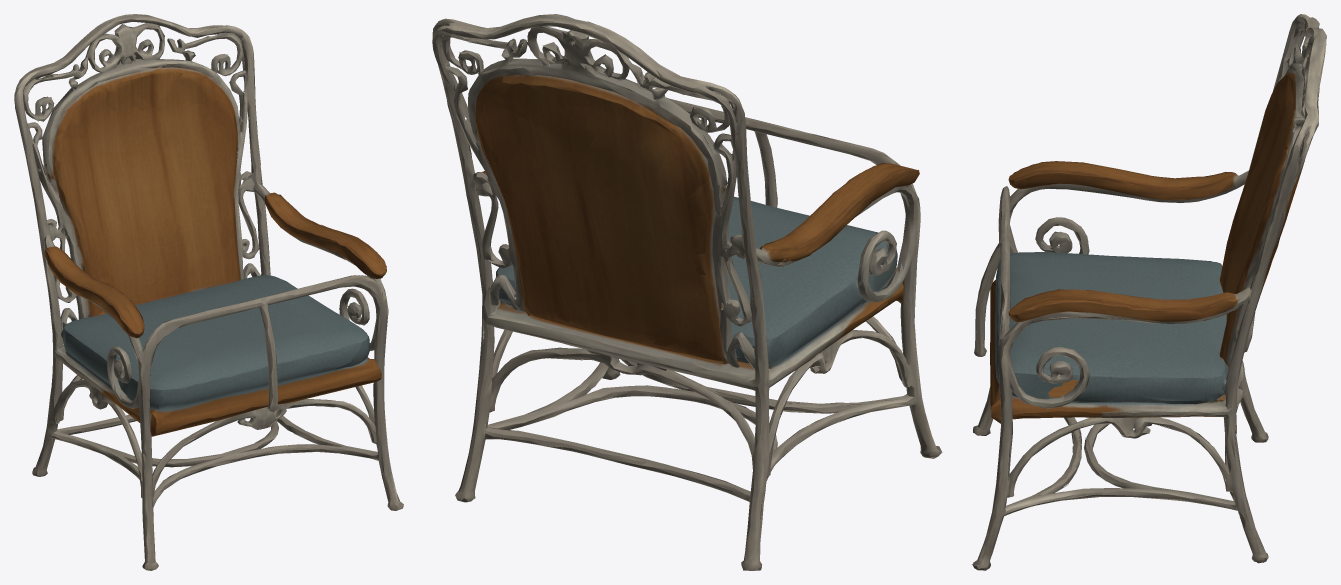
File: unified--swing-seat.glb
3 renders of one model, left to right at view 1: azimuth 30°, elevation 25°; view 2: azimuth 150°, elevation 25°; view 3: azimuth 270°, elevation 25°, orthographic. The views are drawn at different scales.
Visible parts, largest first — view 1: swing-seat-1; view 2: swing-seat-1; view 3: swing-seat-1.
Part boxes in pixels (box(x1,y1,x2,y2)): swing-seat-1: box(14, 14, 403, 570); swing-seat-1: box(432, 14, 942, 570); swing-seat-1: box(972, 14, 1326, 570).
Bounding box in the file's own units: 0.7278 × 1.1 × 0.764.
Materials: 1 (1 with a texture image).
